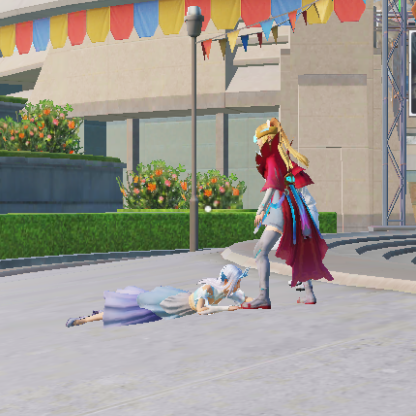ren: (243, 119, 325, 310), (66, 263, 245, 328)
tou: (211, 264, 241, 296), (252, 122, 282, 154)
